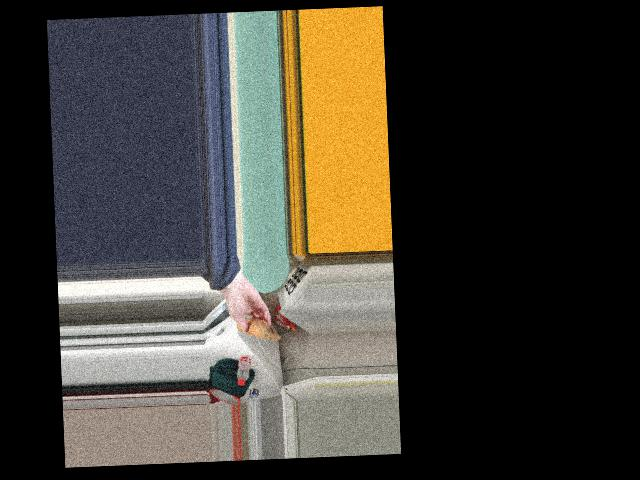sweet_potato: (241, 318, 268, 338)
